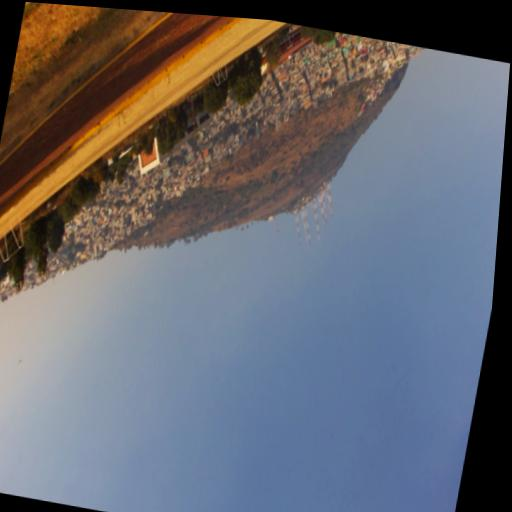drones: (17, 357, 23, 368)
